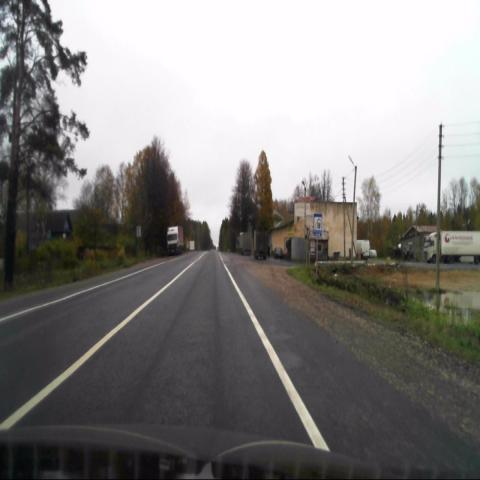7_3: (313, 213, 322, 236)
